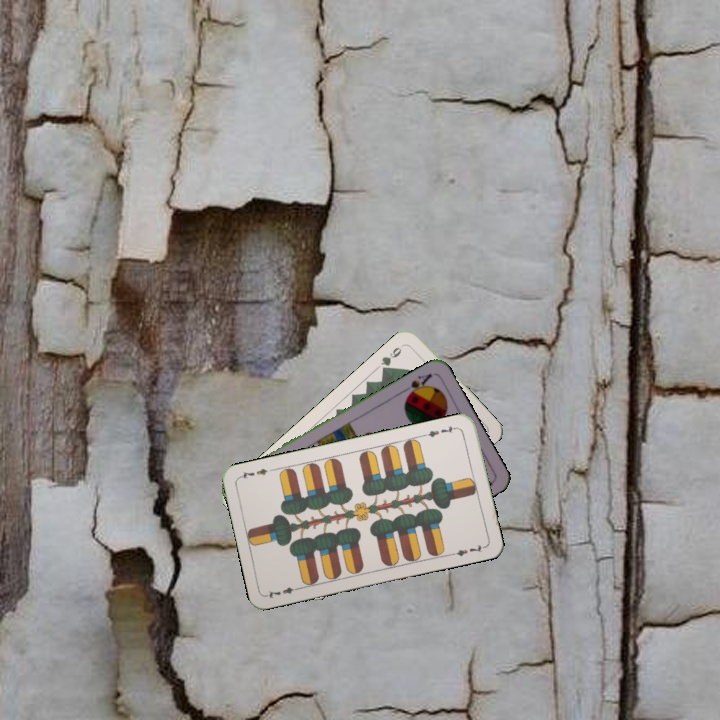E7: (420, 422, 461, 440), (263, 583, 303, 601)
G9: (377, 340, 408, 374)
SA: (398, 369, 435, 400)
